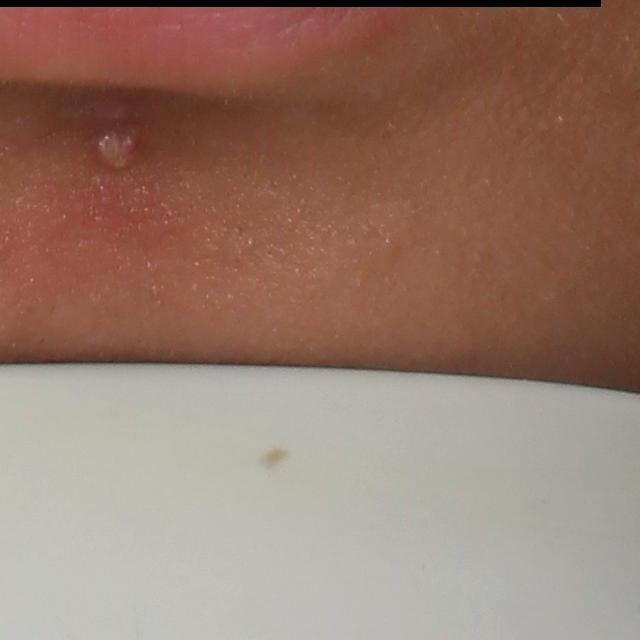pustule: (77, 120, 142, 178)
